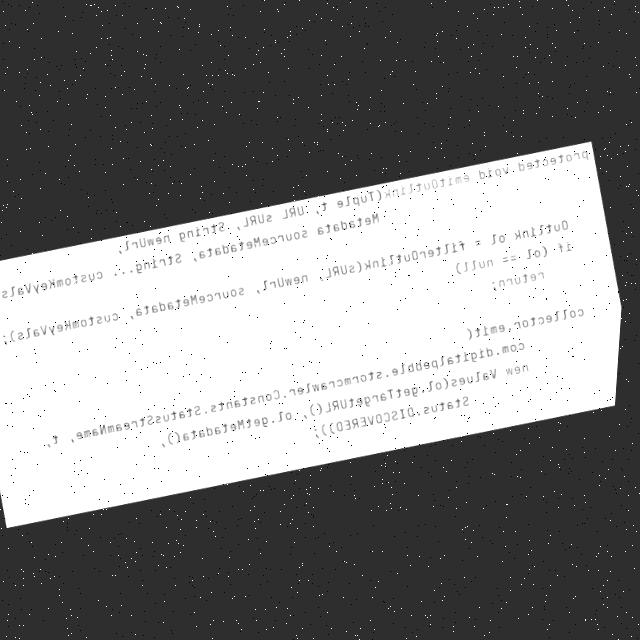code_screen: (0, 142, 621, 525)
